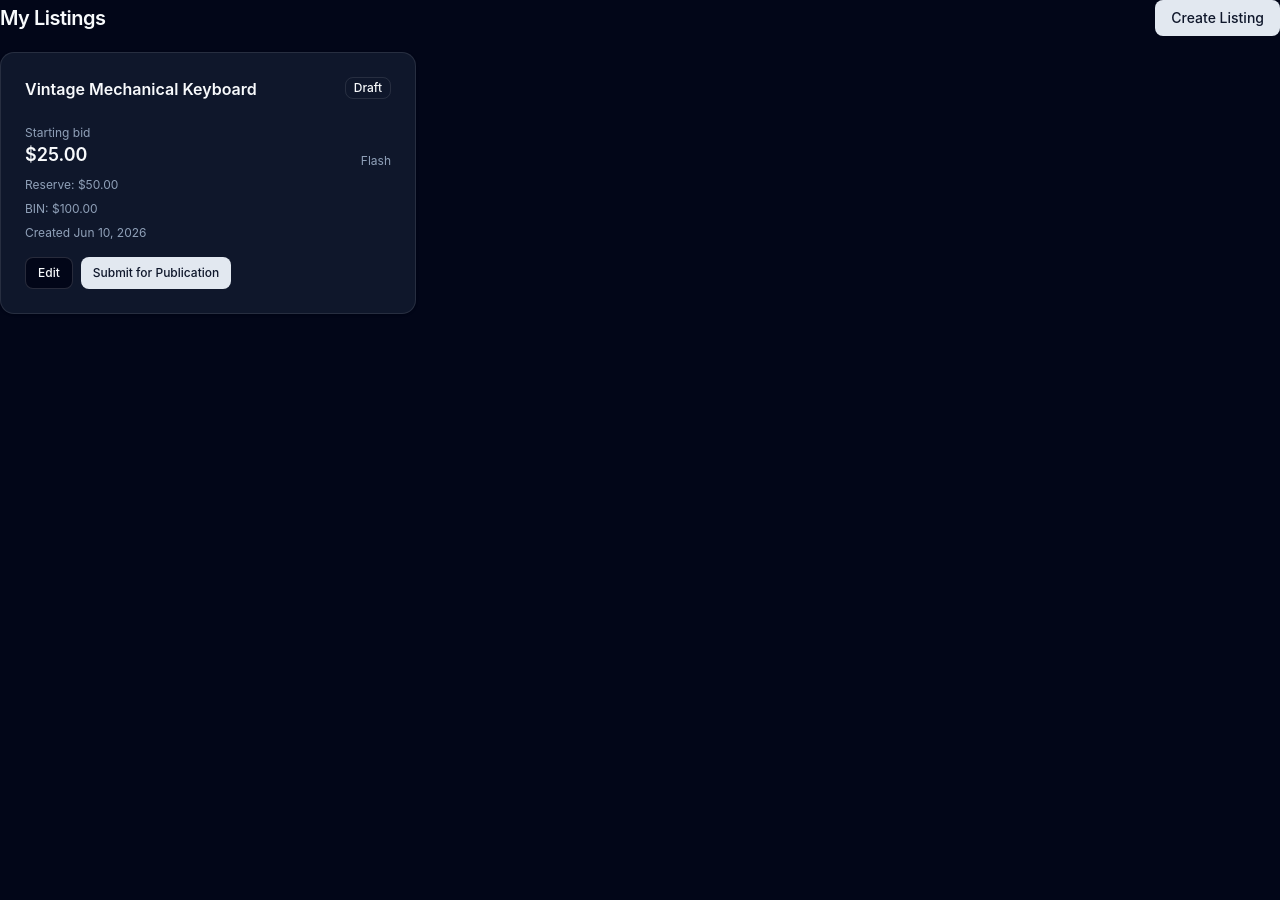
Test: ListingsPage › opens edit dialog when Edit button is clicked
The width and height of the screenshot is (1280, 900).
Check: the text "Vintage Mechanical Keyboard" is shown, box [25,77,257,101]
Click the button "Edit": (49, 273) [25,257,73,289]
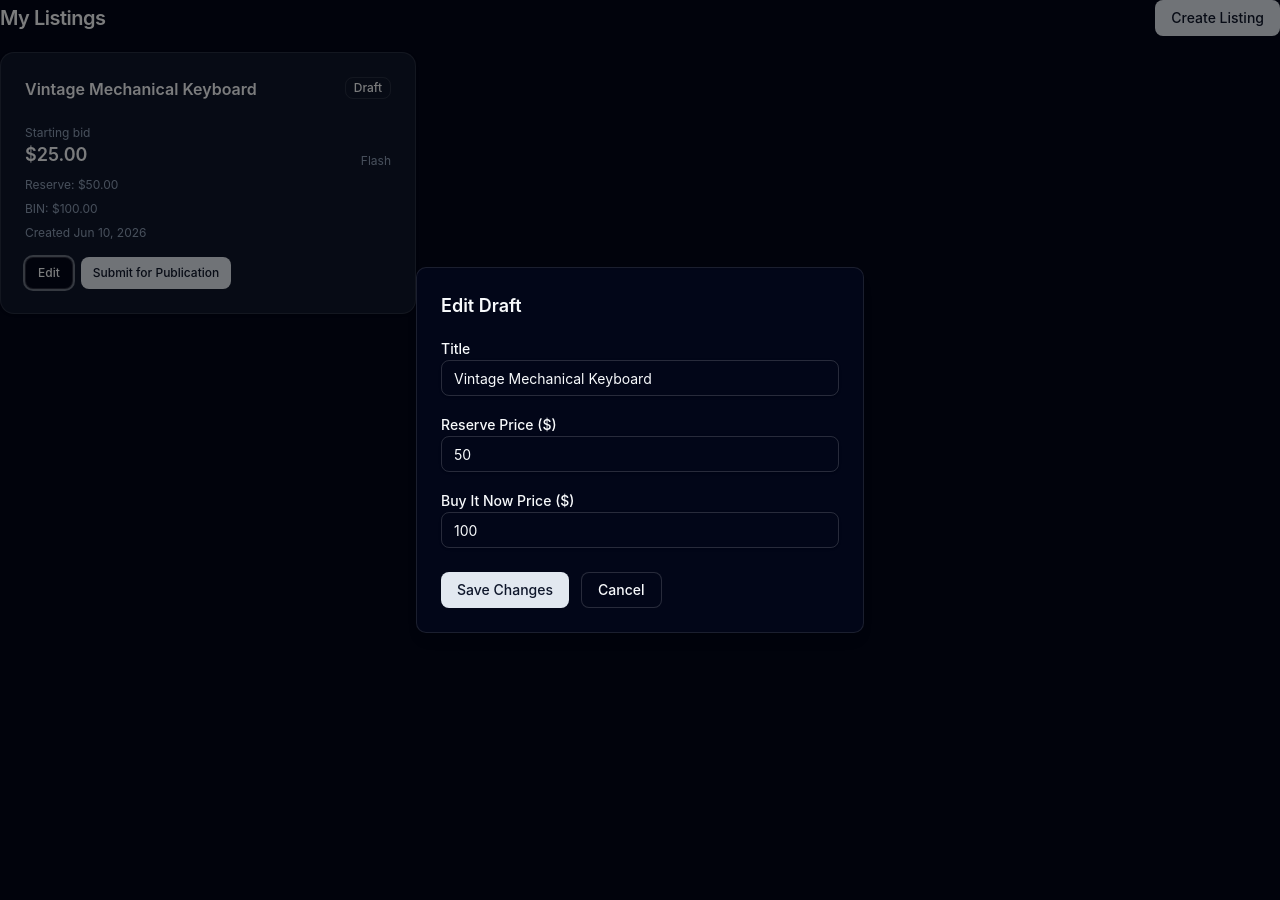
Check: the dialog named "Edit Vintage Mechanical Keyboard" is shown
Check: the field labelled "Title" is shown, box [441,360,839,396]
